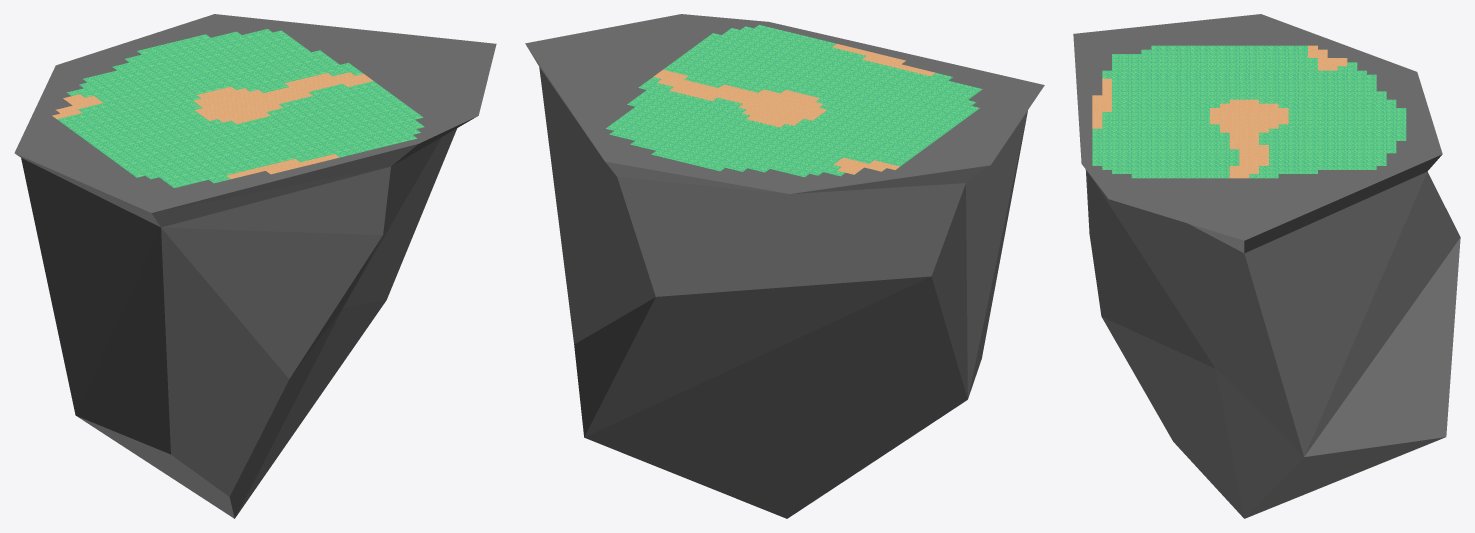
Rendered from island.fbx.
3 renders of one model, left to right at view 1: azimuth 30°, elevation 25°; view 2: azimuth 150°, elevation 25°; view 3: azimuth 270°, elevation 25°, orthographic. The views are drawn at different scales.
Visible parts, largest first — view 1: Icosphere, cube; view 2: Icosphere, cube; view 3: Icosphere, cube.
Part boxes in pixels (x1,y1,x2,y2): Icosphere: (14, 14, 496, 518); cube: (52, 29, 424, 188); Icosphere: (525, 14, 1044, 518); cube: (605, 24, 982, 177); Icosphere: (1073, 14, 1460, 518); cube: (1092, 45, 1406, 178).
Bounding box in the file's own units: 5473 × 4542 × 3949.
